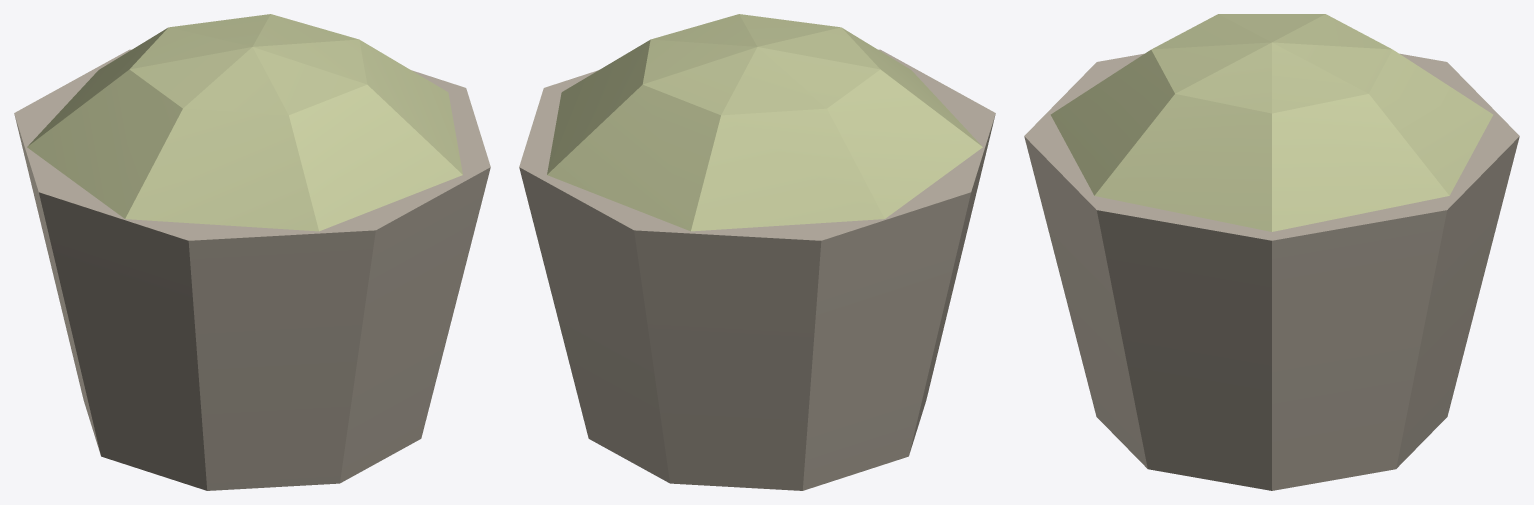
File: herb_basket_1.glb
3 views of the same model, side by side, from view 1: azimuth 30°, elevation 25°; view 2: azimuth 150°, elevation 25°; view 3: azimuth 270°, elevation 25° (orthographic).
Visible parts, largest first — view 1: basket; view 2: basket; view 3: basket.
Part boxes in pixels (x1=…): basket: x1=14, y1=14, x2=490, y2=490; basket: x1=519, y1=14, x2=995, y2=490; basket: x1=1024, y1=14, x2=1519, y2=490.
Bounding box in the file's own units: 0.48 × 0.4 × 0.48.
